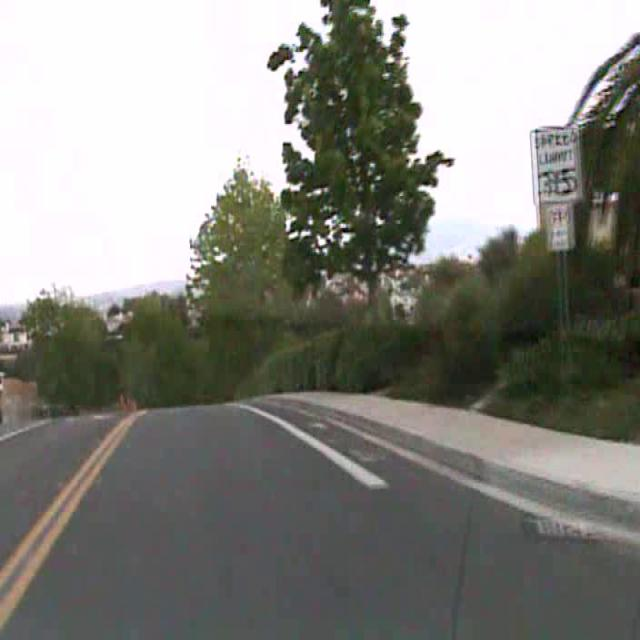speedLimit35: (529, 124, 584, 204)
